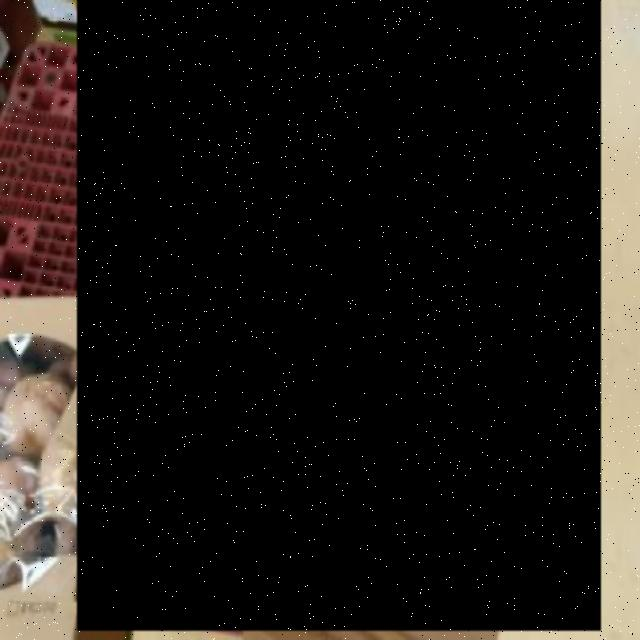Sweet_Potato: (77, 0, 600, 631)
